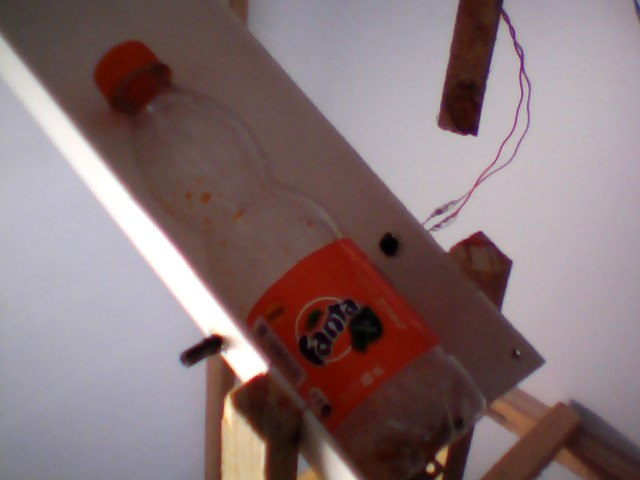plastico: (90, 33, 494, 480)
